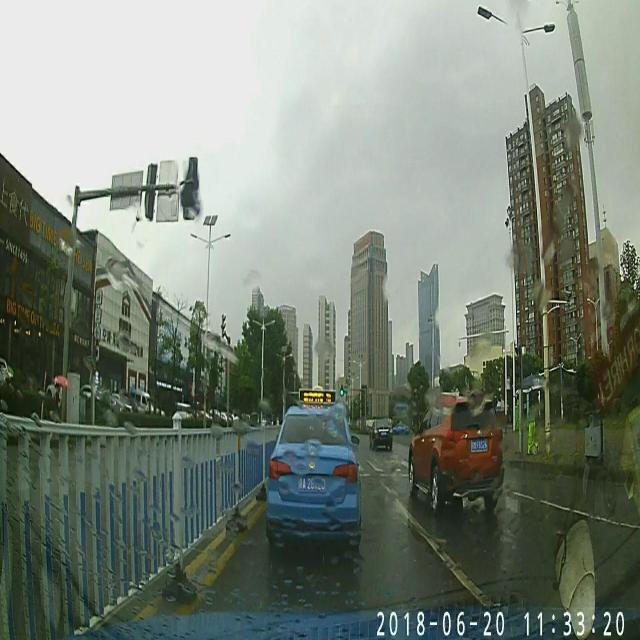car: (266, 411, 363, 548), (408, 395, 503, 513), (370, 418, 392, 449)
